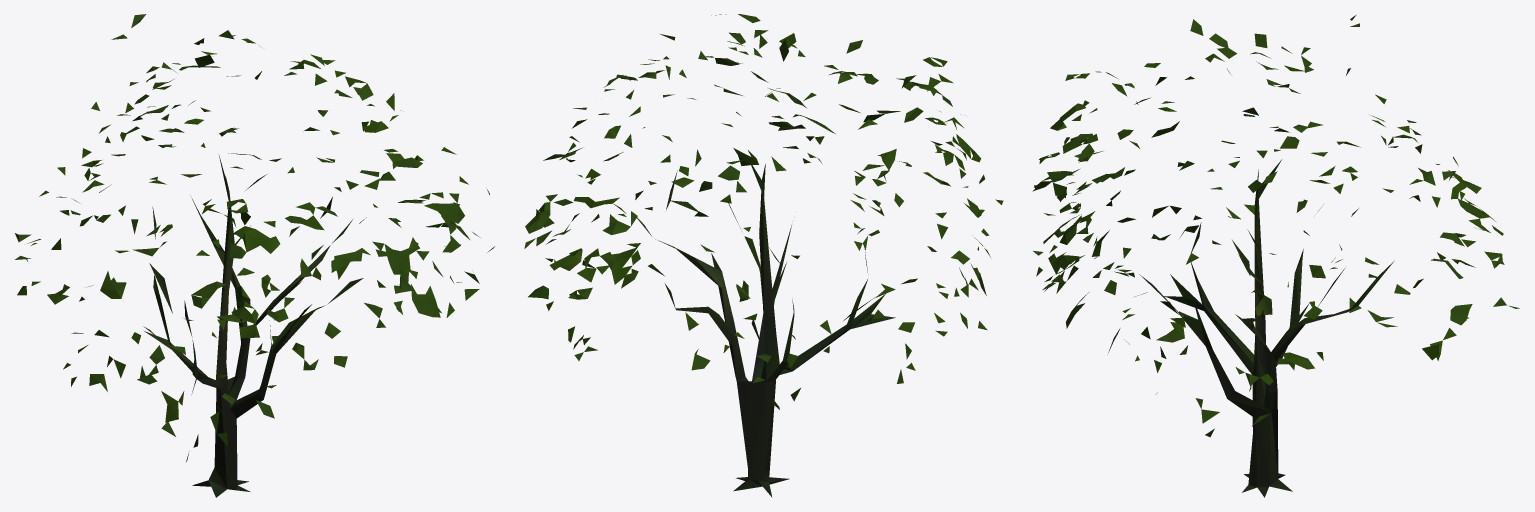
The model's file is lib_tp_muamy.vc2.glb.
3 renders of one model, left to right at view 1: azimuth 30°, elevation 25°; view 2: azimuth 150°, elevation 25°; view 3: azimuth 270°, elevation 25°, orthographic.
Parts seen in each view (by area): view 1: lib_tp_muamy; view 2: lib_tp_muamy; view 3: lib_tp_muamy.
Boxes of the visible parts, box(x1,y1,x2,y2) form: lib_tp_muamy: box(15, 14, 494, 497); lib_tp_muamy: box(524, 14, 1003, 497); lib_tp_muamy: box(1032, 14, 1519, 497).
Size of the model in its own units: 1.79 by 1.85 by 1.82.
